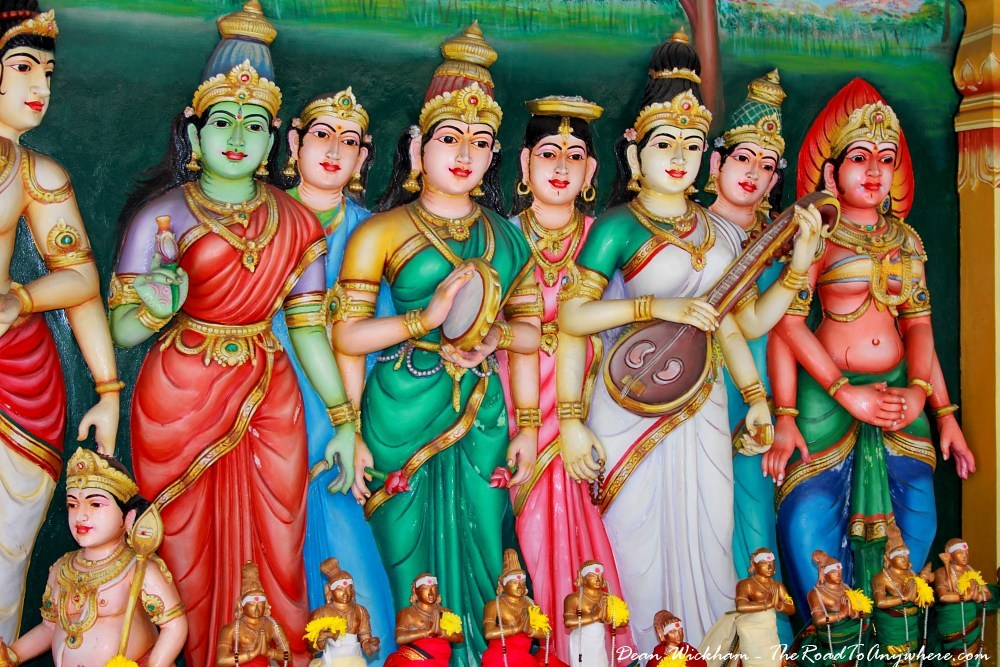Hindu Temple: (2, 24, 966, 503)
